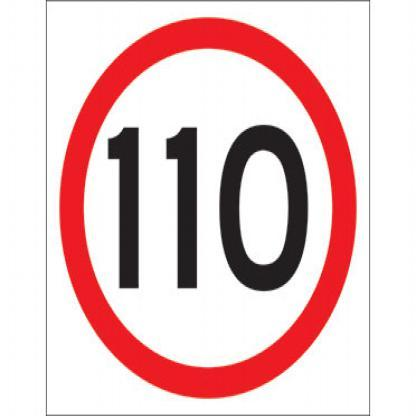Speed Limit 110: (65, 18, 351, 392)
